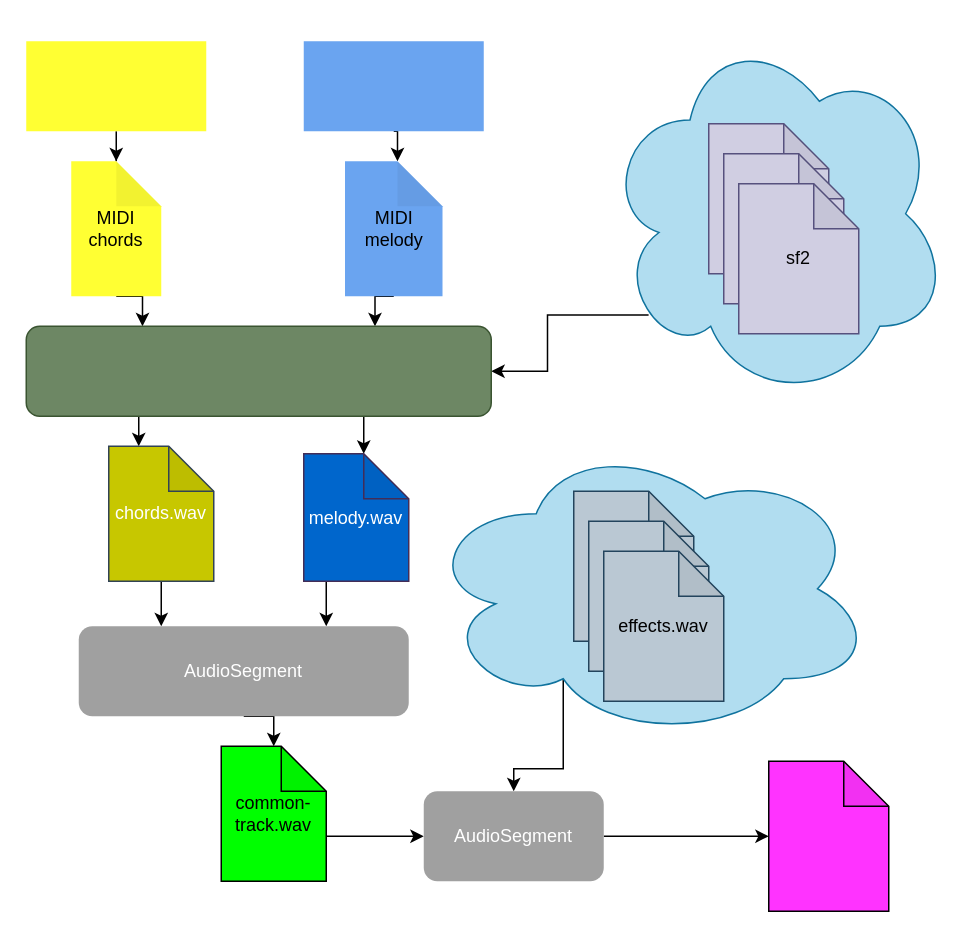
Some shapes in this 975 by 938 pixel diagram are drawn without their labels. Here are the shapes that lost their labels. From the top down, the centre of each, then its label:
At (116,85): "Chords LSTM".
At (393,85): "Melody LSTM".
At (258,370): "FluidSynth".
At (828,835): "final-track.wav".
